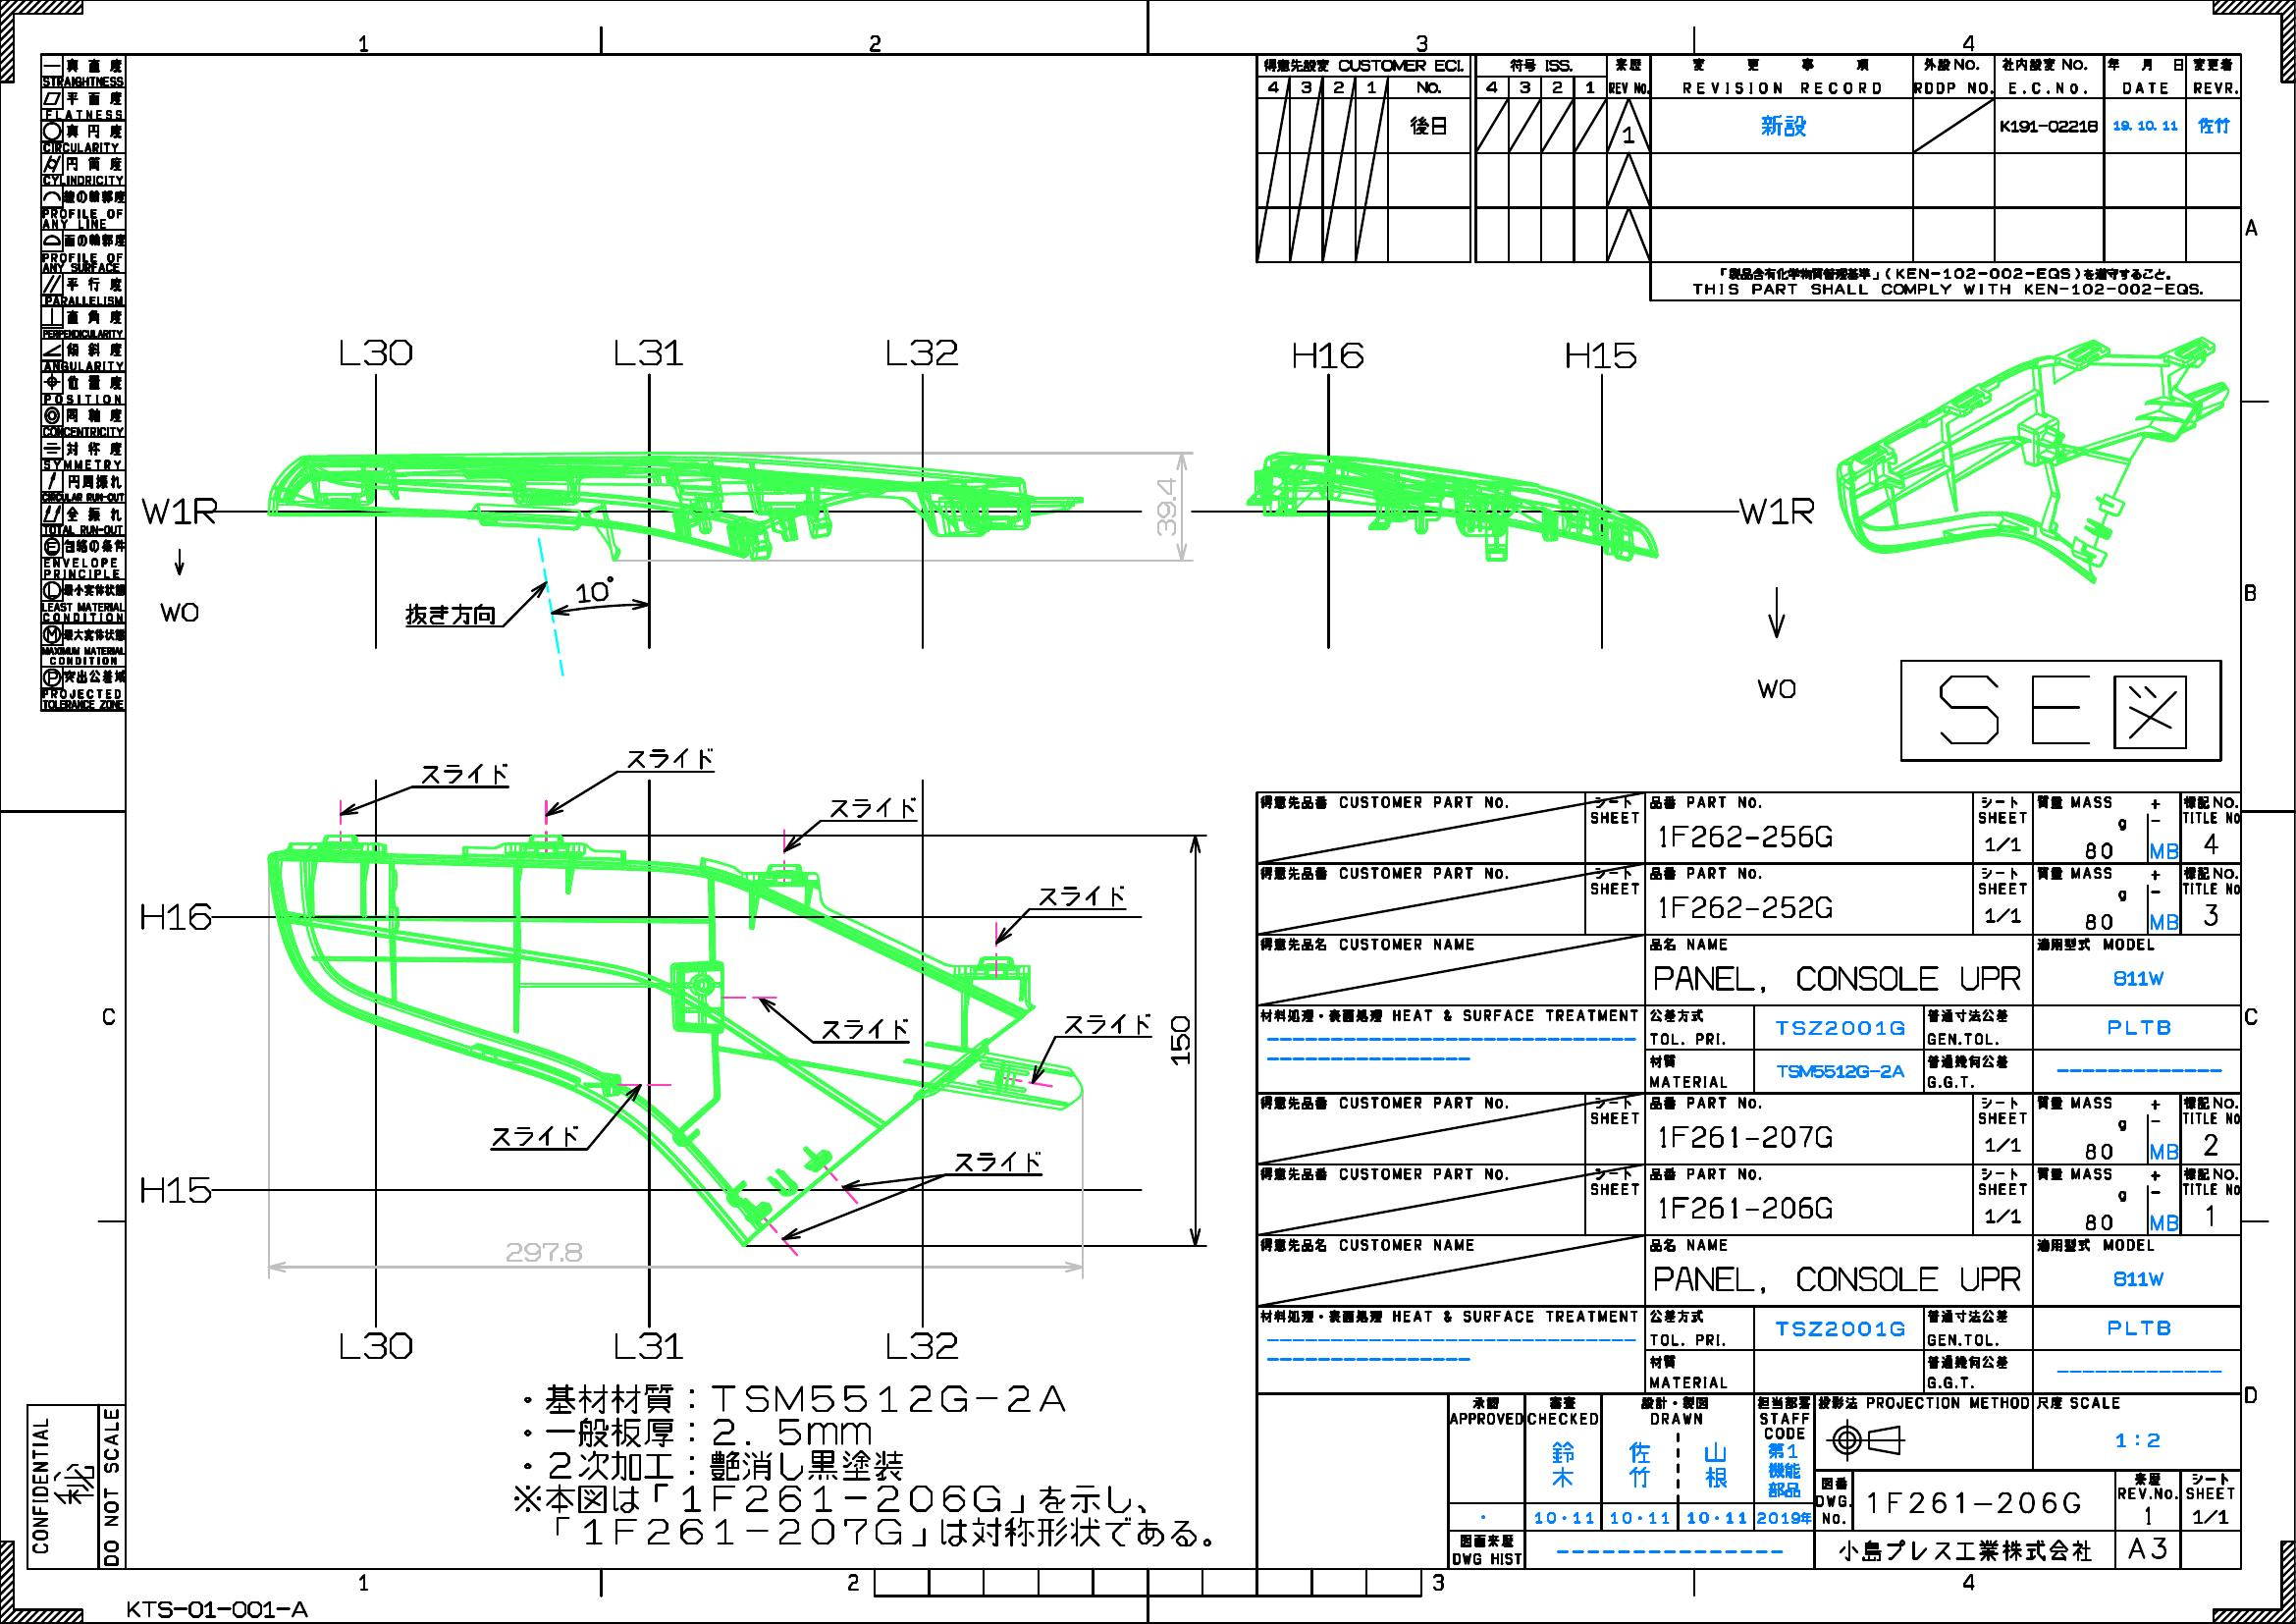anntotation_text: (511, 1374, 1214, 1557), (1901, 659, 2222, 763), (1650, 262, 2240, 299), (28, 1403, 126, 1570), (126, 1598, 314, 1620), (1558, 334, 1639, 373), (882, 332, 964, 369), (608, 334, 690, 371), (137, 492, 220, 529), (880, 1327, 963, 1364), (608, 1323, 690, 1360), (1737, 492, 1818, 529), (1286, 337, 1367, 374), (134, 898, 214, 935), (135, 1172, 216, 1209), (337, 332, 418, 367), (334, 1327, 415, 1362), (404, 601, 495, 624), (820, 1018, 908, 1040), (1065, 1011, 1152, 1033), (954, 1149, 1040, 1172), (1038, 884, 1124, 907), (831, 796, 917, 819), (627, 747, 713, 770), (422, 763, 509, 784), (494, 1125, 580, 1146), (155, 596, 204, 626), (1753, 673, 1802, 701)
dimension_text: (502, 1241, 583, 1264), (1154, 475, 1179, 538), (1168, 1009, 1193, 1067), (578, 578, 618, 603)
object: (265, 835, 1084, 1248), (1836, 332, 2227, 585), (265, 453, 1084, 559), (1247, 452, 1658, 564)
title_block: (1254, 791, 2242, 1570), (1256, 53, 2240, 262), (39, 54, 126, 710)
